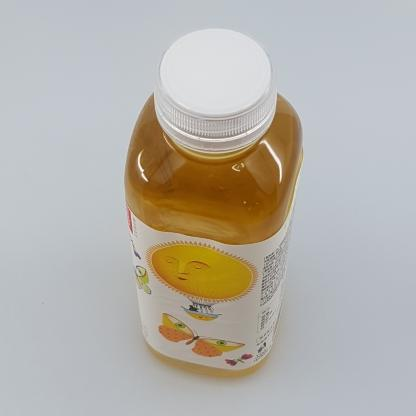------------: (124, 27, 304, 377)
